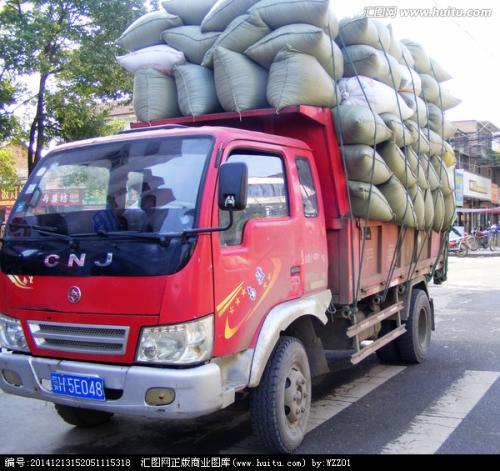chaozhai: (30, 6, 449, 456)
